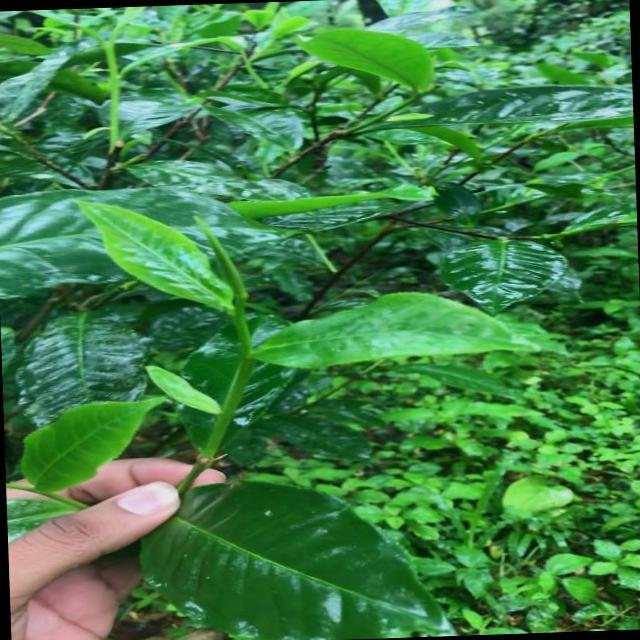Stem: (237, 358, 256, 376), (105, 44, 113, 52)
